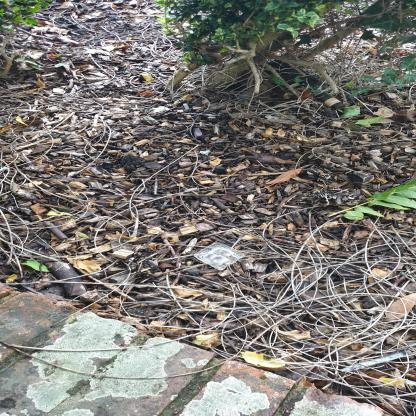plastik: (195, 243, 246, 271)
